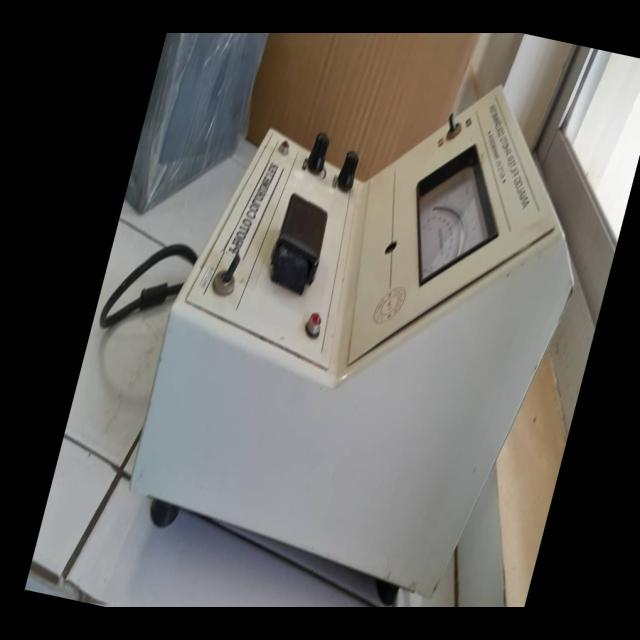Photocolorimeter: (117, 33, 611, 595)
